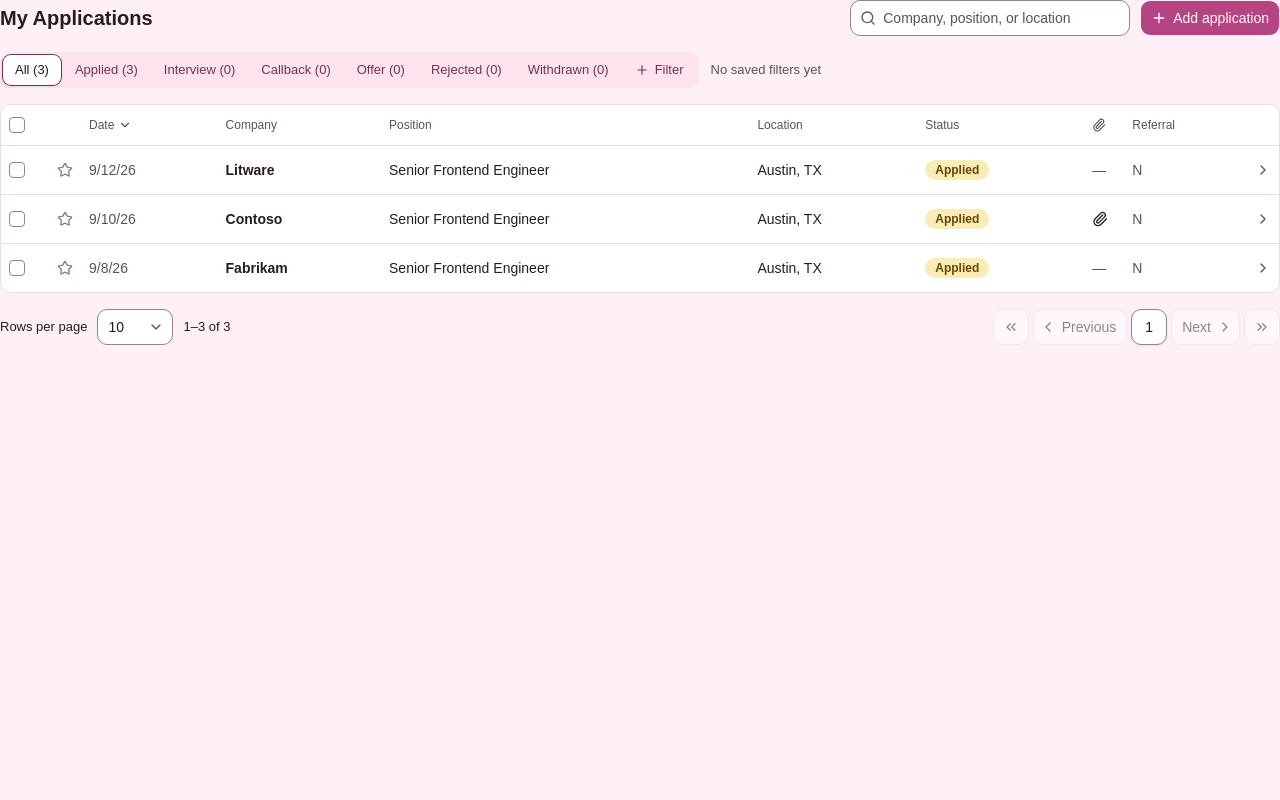
Test: bulk delete › names a single selected application the way the detail screen does
This screenshot has width=1280, height=800.
What coordinates should you click on to do the following:
click the checkbox named "Select Fabrikam"
I would click on:
 (17, 268)
Its box is [9, 260, 25, 276].
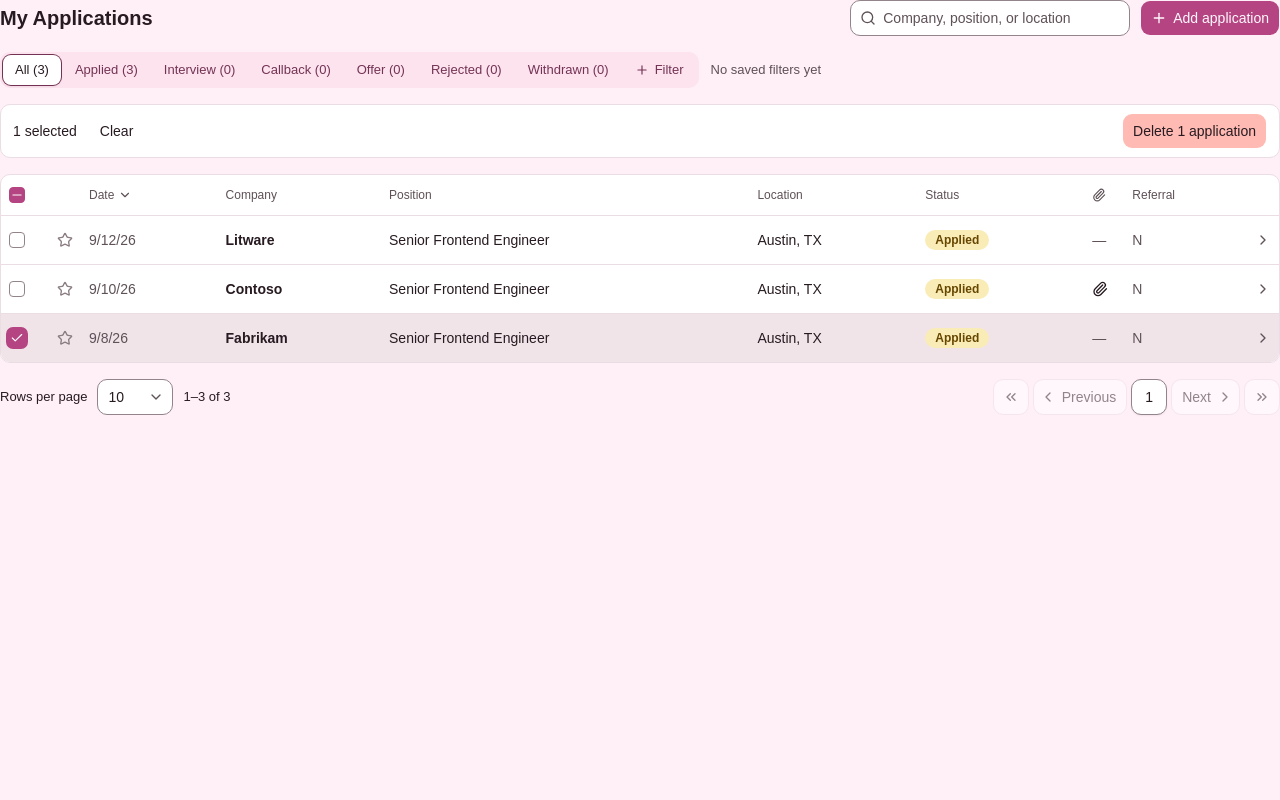
What coordinates should you click on to do the following:
click the button "Delete 1 application"
I would click on:
 (1194, 131)
Its box is [1122, 113, 1267, 149].
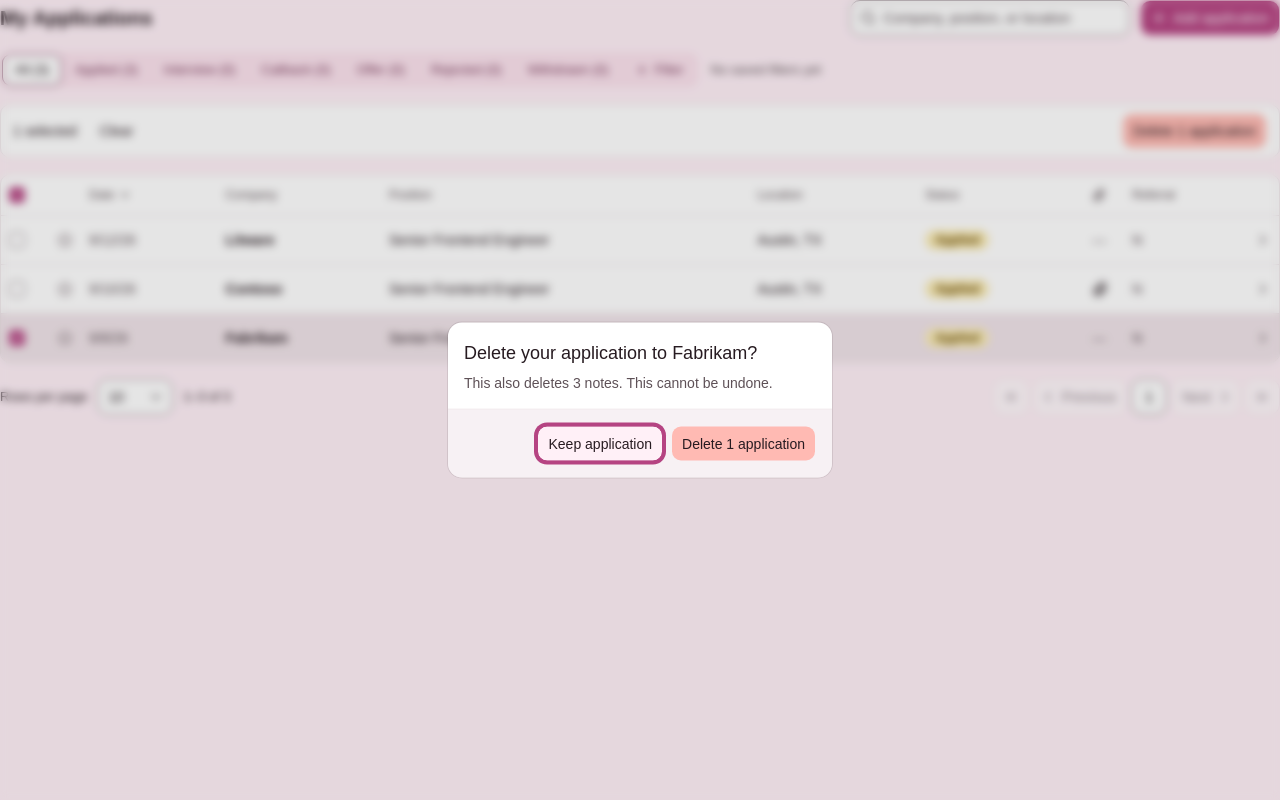
Expected: the heading "Delete your application to Fabrikam?" is shown, [464, 338, 757, 366]
What coordinates should you click on to do the following:
click the button "Keep application"
I would click on:
 (600, 444)
Its box is [538, 426, 663, 462].
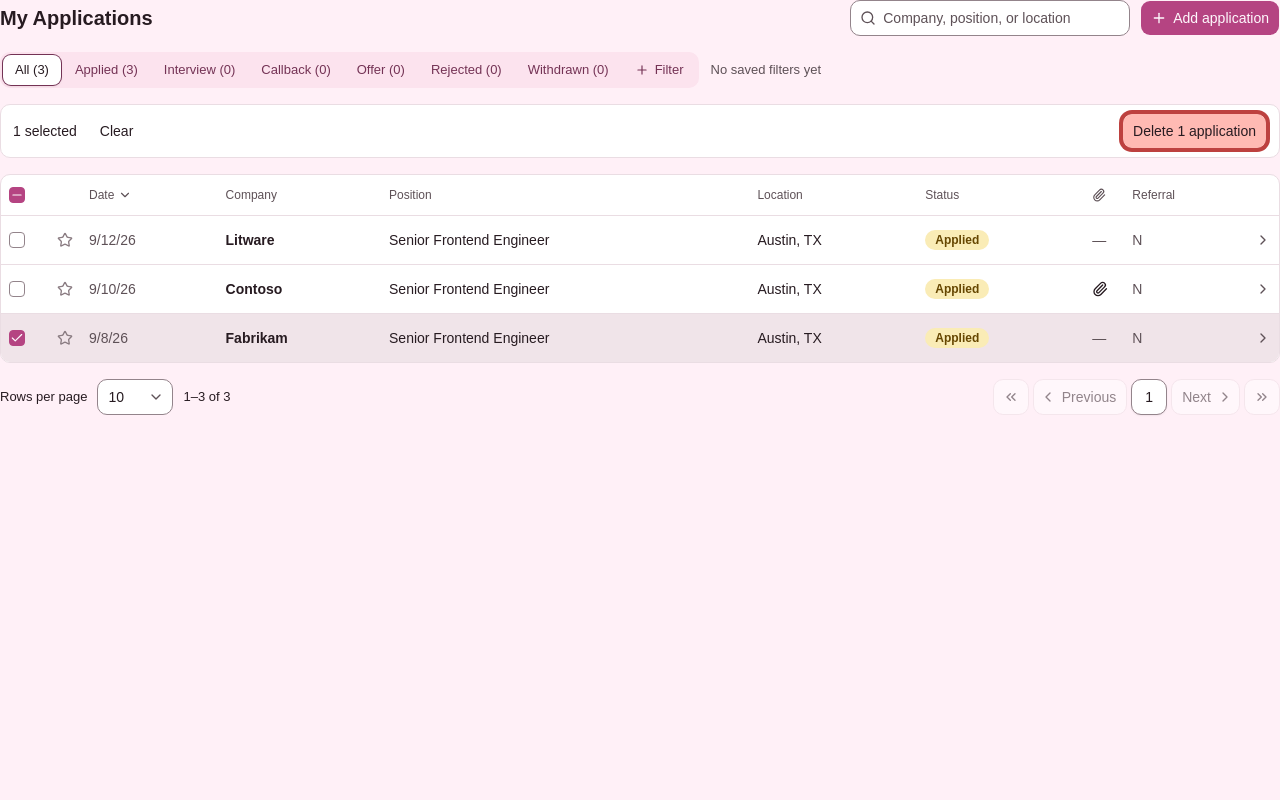
Expected: the dialog is gone
